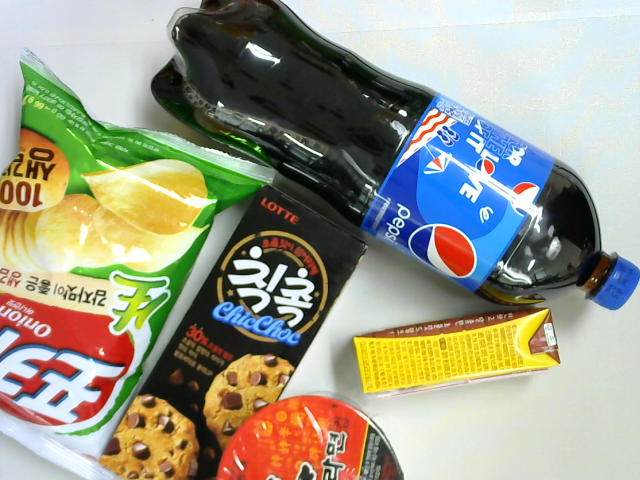Chicchok_Original_2400: (95, 181, 370, 480)
Choco_E_Mong: (348, 307, 560, 394)
Pepsi_Cola_1.5L: (150, 1, 639, 311)
Pocachip_Onion: (1, 41, 281, 480)
Sinramen_small: (203, 395, 405, 480)
